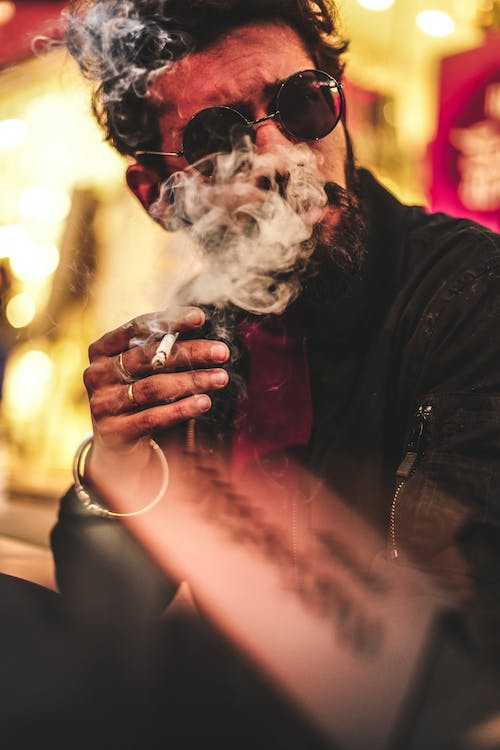cigarette: (148, 328, 181, 370)
